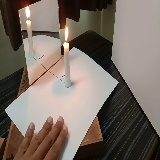fire: (64, 25, 69, 44)
